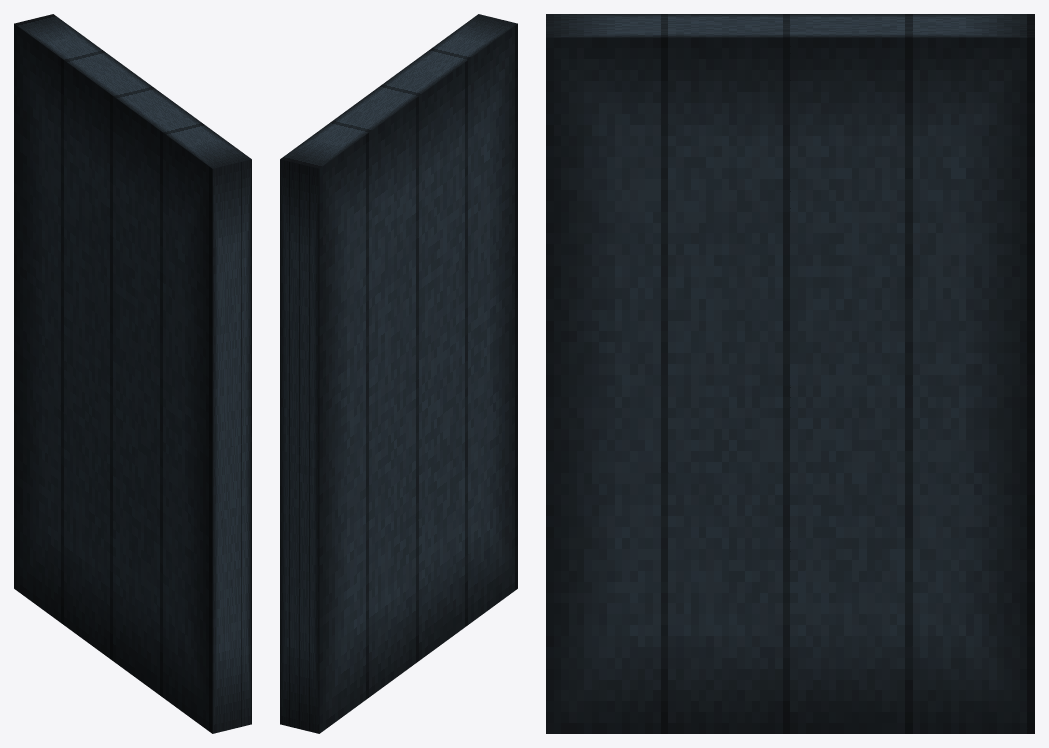
File: porta.obj
3 renders of one model, left to right at view 1: azimuth 30°, elevation 25°; view 2: azimuth 150°, elevation 25°; view 3: azimuth 270°, elevation 25°, orthographic. The views are drawn at different scales.
Size of the model in its own units: 0.16 by 2.2 by 1.4.
Materials: 1 (1 with a texture image).
